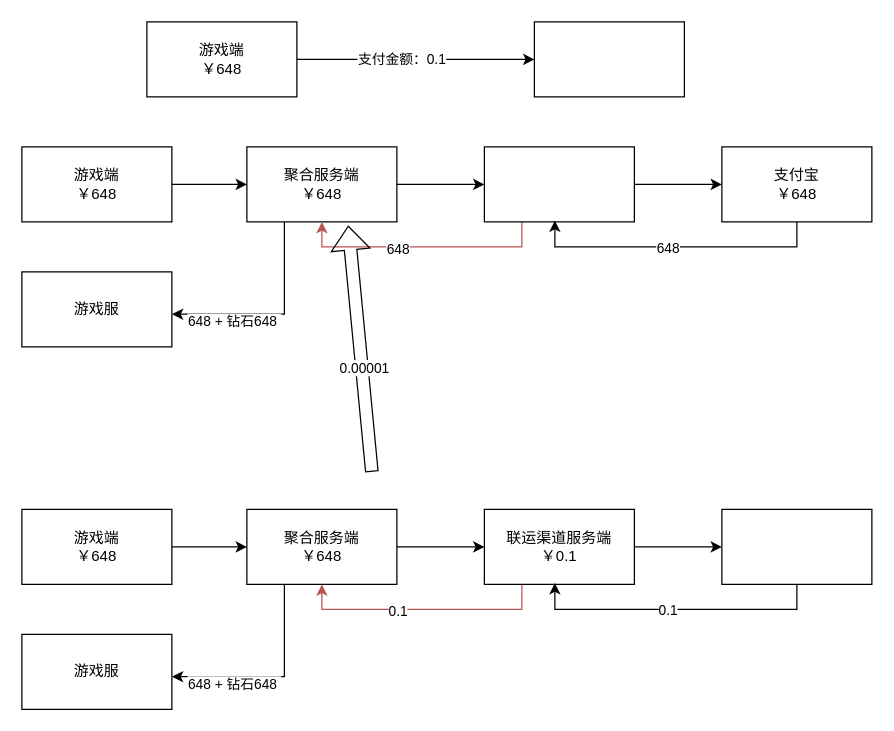
Some shapes in this 894 by 731 pixel diagram are drawn without their labels. The box of each missing label's shape, as (x1, y1, x2, y2) in pixels:
支付宝 ￥0.1: (721, 508, 872, 584)
服务器: (533, 21, 684, 97)
联运渠道服务端 ￥648: (483, 146, 634, 222)
